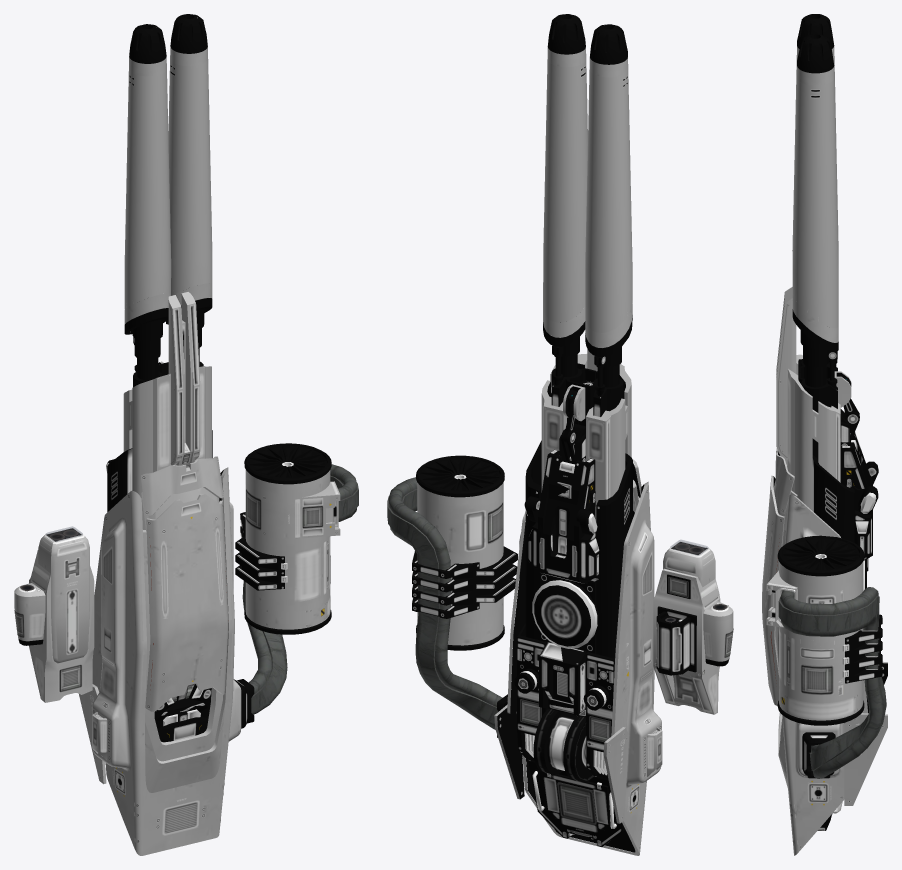
Rendered from reign-3-repeater.glb.
3 views of the same model, side by side, from view 1: azimuth 30°, elevation 25°; view 2: azimuth 150°, elevation 25°; view 3: azimuth 270°, elevation 25° (orthographic). The views are drawn at different scales.
Parts seen in each view (by area): view 1: base_body, barrel_1_tip_left, ven_mount; view 2: base_body, barrel_1_tip_left, ven_mount; view 3: base_body, barrel_1_tip_left, ven_mount.
Boxes of the visible parts, <box> form: base_body: <box>14,14,340,855</box>; barrel_1_tip_left: <box>123,58,212,529</box>; ven_mount: <box>242,464,358,714</box>; base_body: <box>412,14,733,855</box>; barrel_1_tip_left: <box>541,59,632,521</box>; ven_mount: <box>387,477,502,729</box>; base_body: <box>762,14,887,855</box>; barrel_1_tip_left: <box>776,58,840,510</box>; ven_mount: <box>778,587,886,778</box>.
Bounding box in the file's own units: 1.79 × 4.19 × 0.5893.
12 materials, 9 textured.
